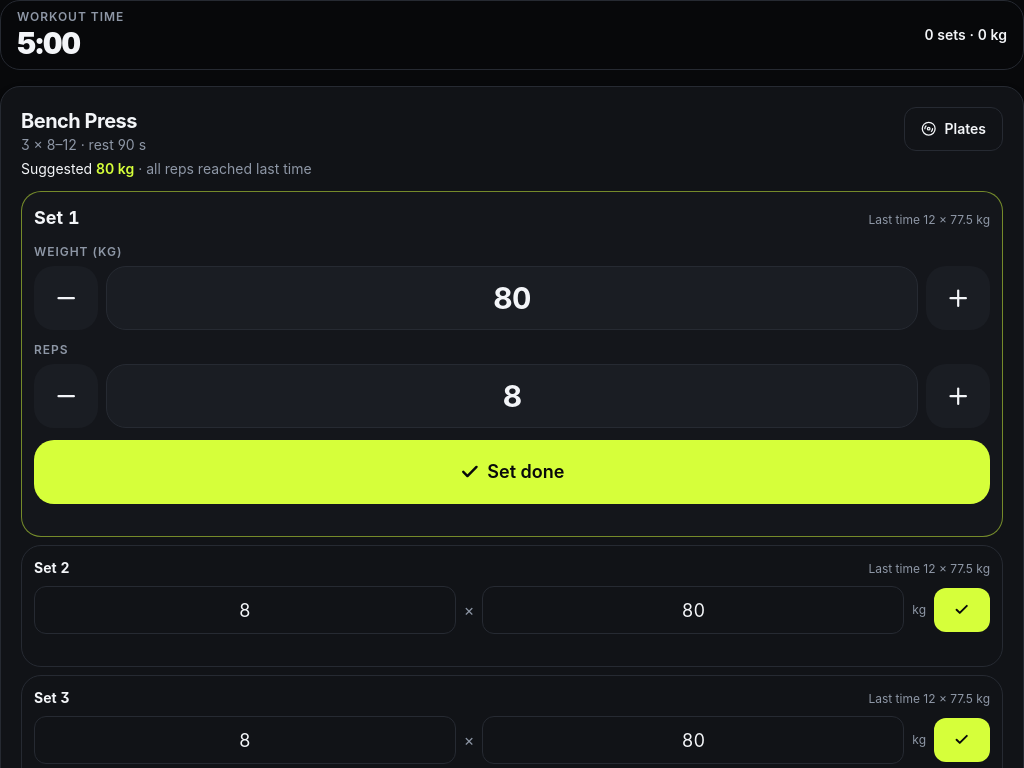
workout screen › does not finish while sets are still waiting
The width and height of the screenshot is (1024, 768).
Click the button with aria-label "Set done, Bench Press set 1": x=512, y=472 [34,440,990,504]
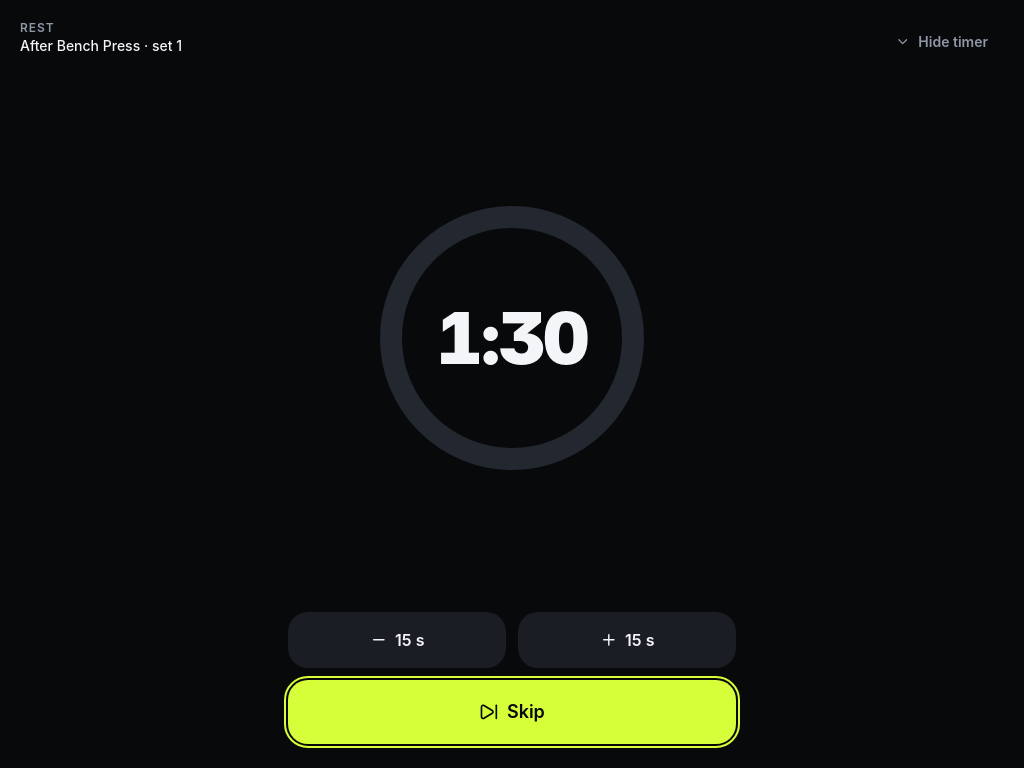
Click the button "Hide timer": x=941, y=42 [879,20,1004,64]
(page scrolled)
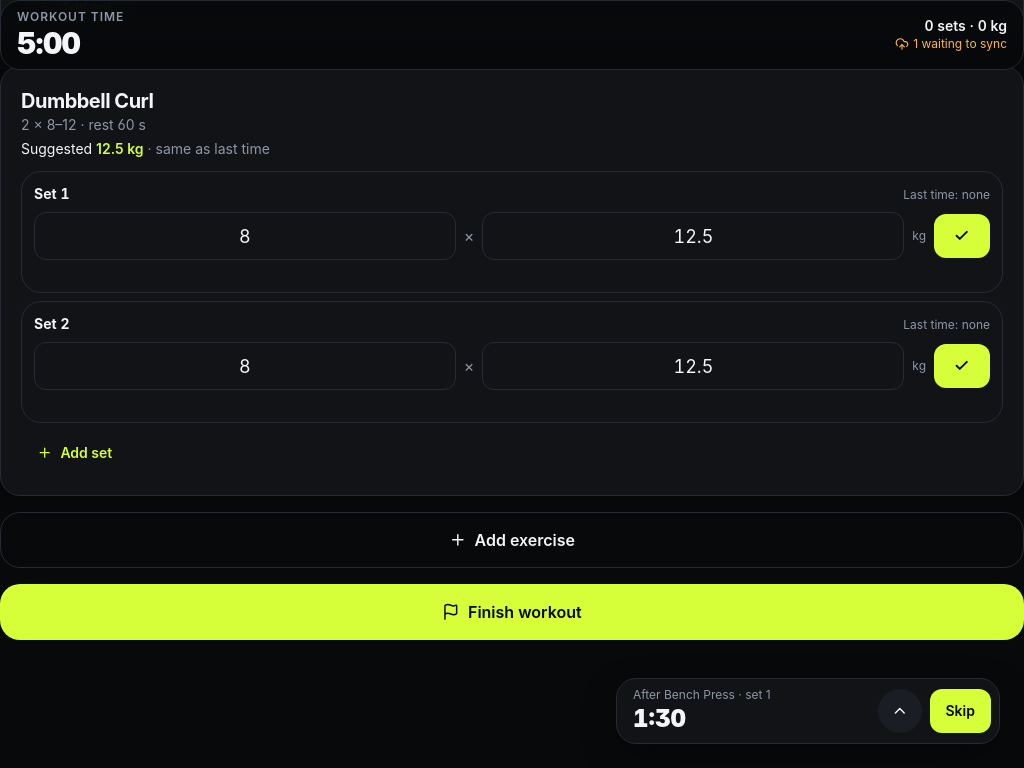
Click the button "Finish workout": x=512, y=612 [0,584,1023,640]
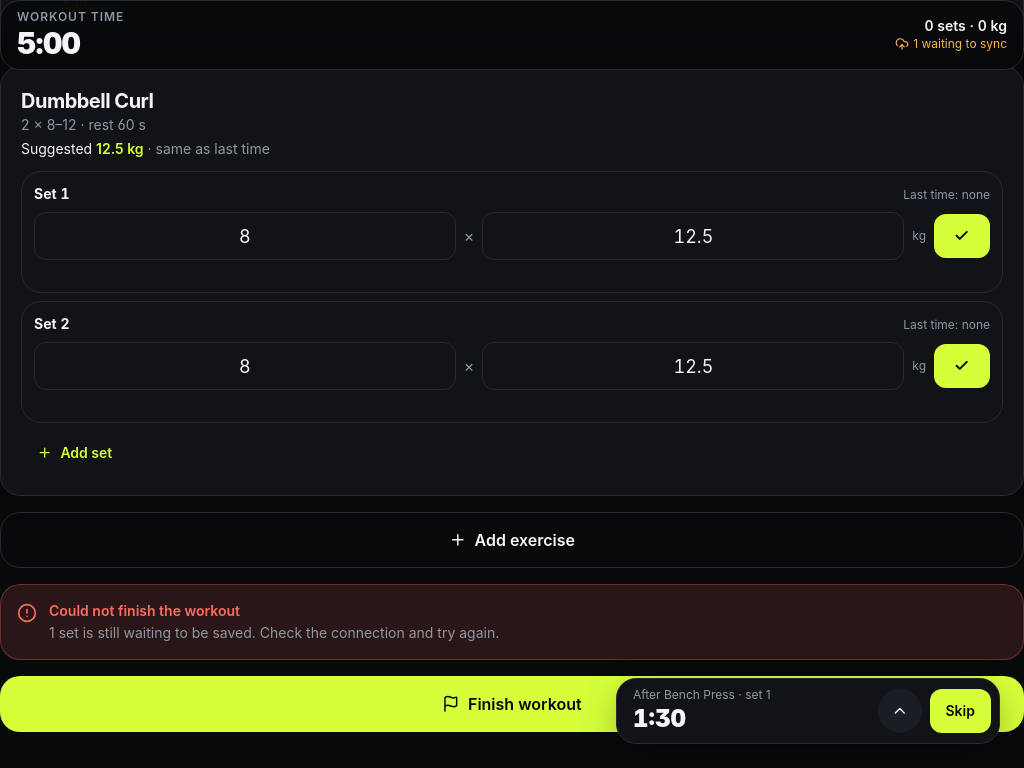
Now the message that starts with "Could not finish the workout" shows "1 set is still waiting to be saved", box [49,624,499,641]
